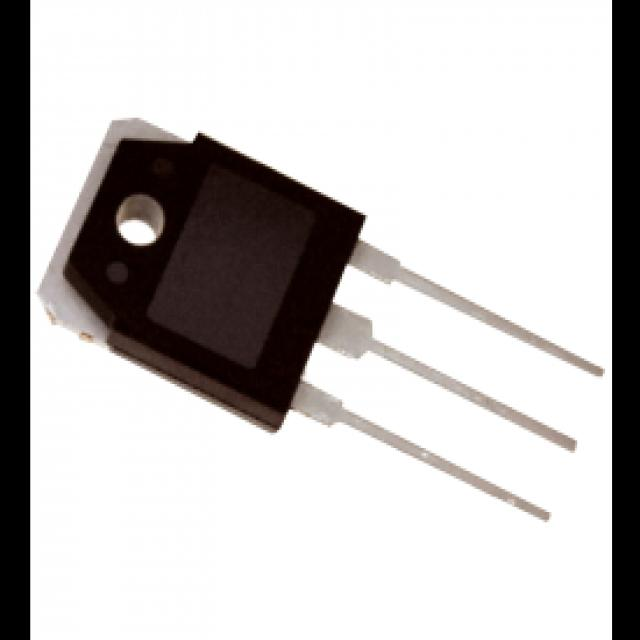Transistor: (46, 121, 598, 517)
